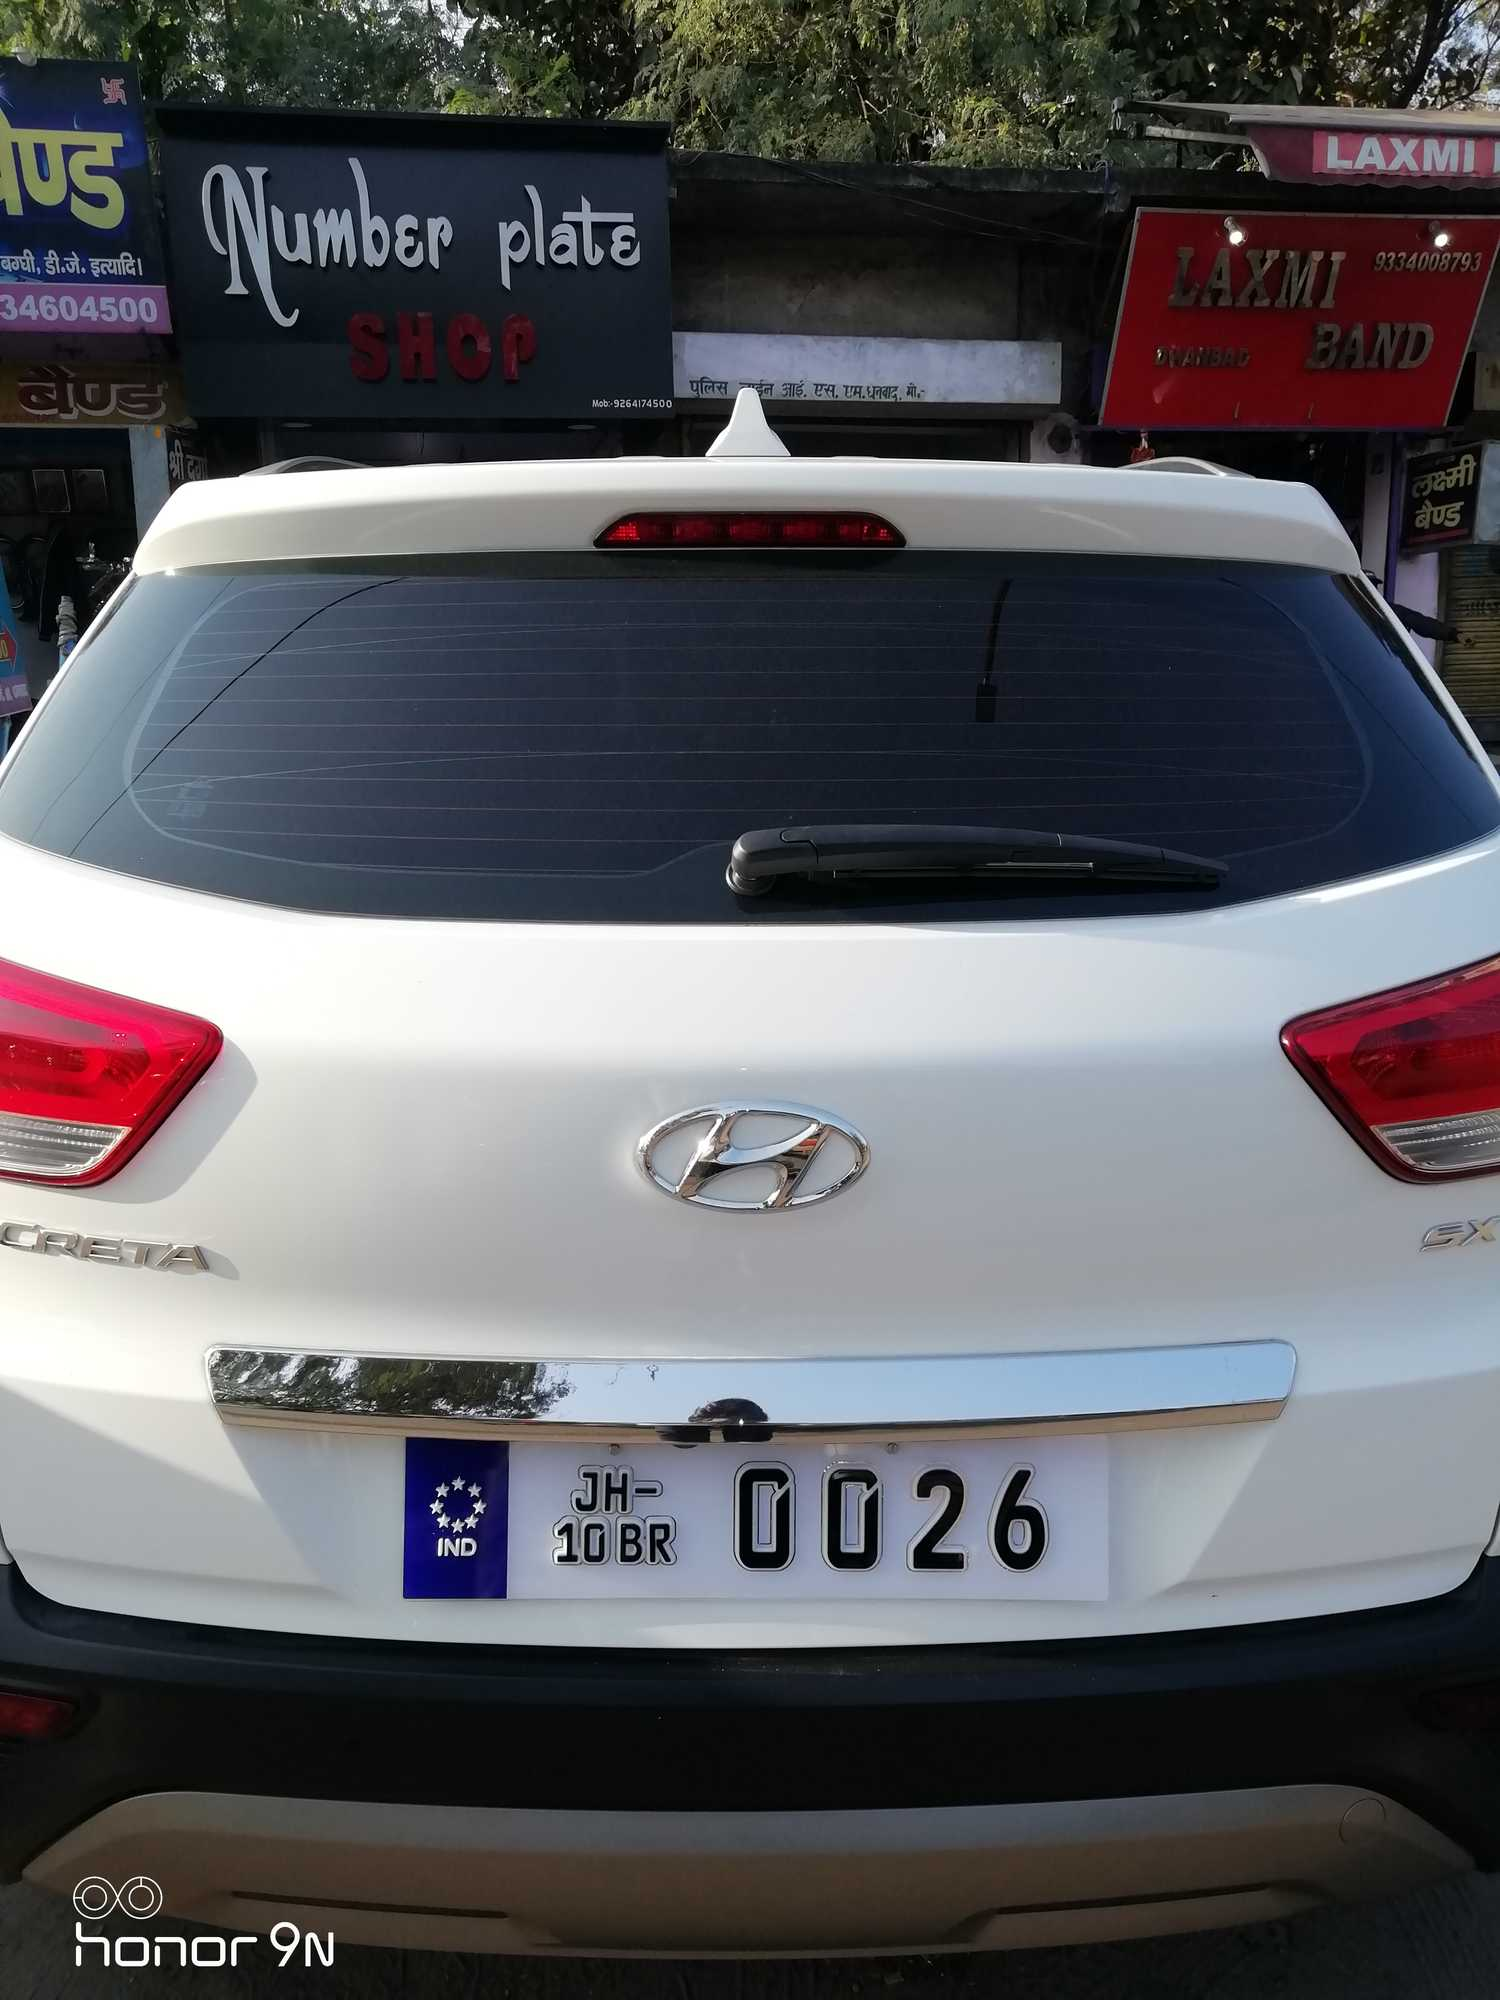number_plate: (394, 1421, 1125, 1613)
